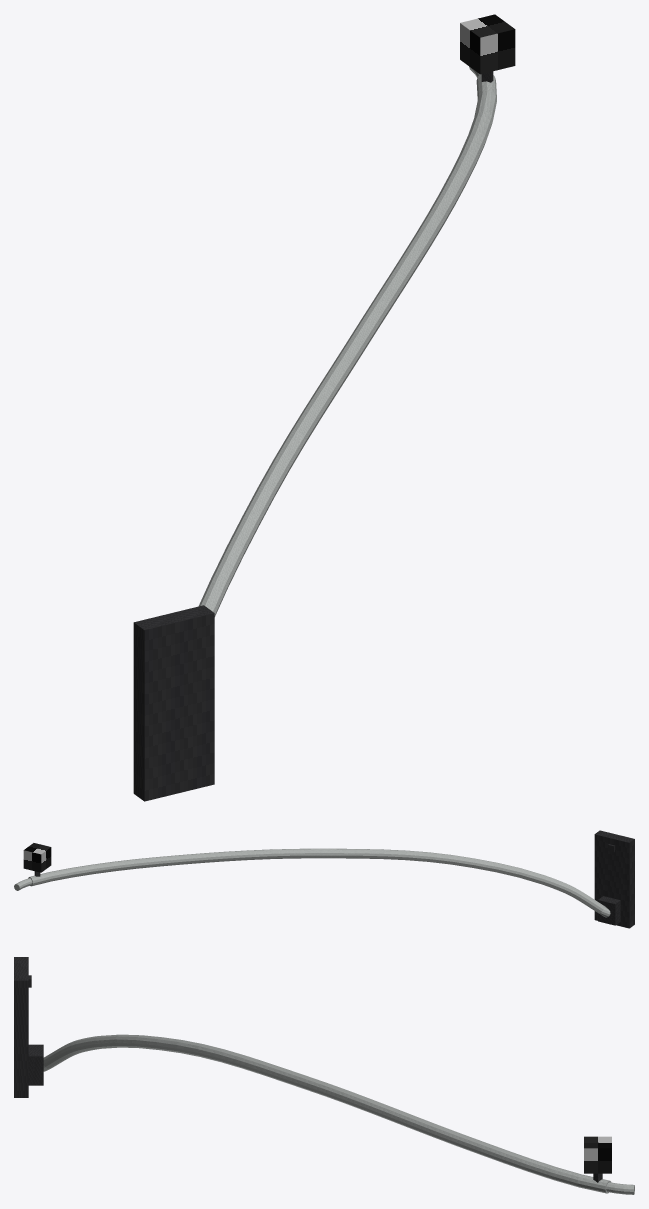
File: arm_6_right.obj
The picture shows the model from 3 angles, top to bottom: view 1: azimuth 30°, elevation 25°; view 2: azimuth 150°, elevation 25°; view 3: azimuth 270°, elevation 25°; orthographic projection. The views are drawn at different scales.
Visible parts, largest first — view 1: pole_light_mount_6_right; view 2: pole_light_mount_6_right; view 3: pole_light_mount_6_right.
Part boxes in pixels (x1,y1,x2,y2): pole_light_mount_6_right: [133, 14, 515, 801]; pole_light_mount_6_right: [14, 830, 634, 928]; pole_light_mount_6_right: [14, 957, 634, 1194].
Bounding box in the file's own units: 4.22 × 1.41 × 4.19.
